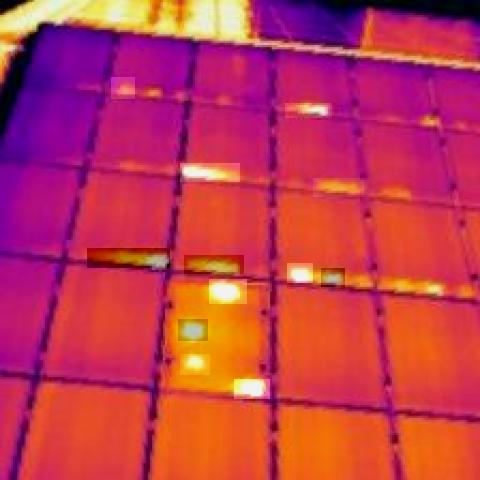fault: (87, 248, 170, 268), (389, 276, 451, 296), (184, 255, 244, 274), (180, 163, 240, 182), (313, 178, 364, 197), (209, 279, 247, 304), (234, 379, 270, 399), (285, 103, 332, 118), (178, 319, 208, 341), (180, 354, 210, 375), (111, 77, 135, 99), (287, 263, 313, 283), (321, 268, 345, 287), (146, 84, 165, 100), (420, 114, 439, 130)
